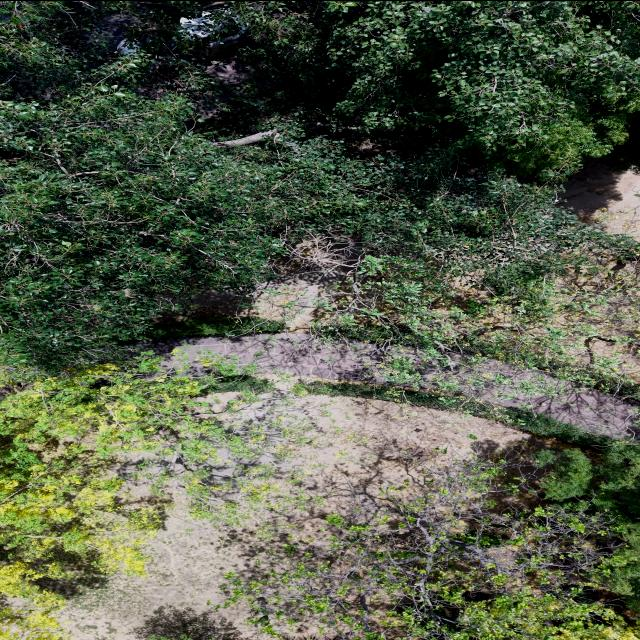DRY_AREA: (59, 392, 531, 639), (61, 390, 528, 639), (61, 390, 527, 639), (144, 237, 639, 438), (142, 333, 636, 437), (154, 334, 639, 439), (59, 493, 265, 639), (454, 260, 639, 383), (160, 231, 361, 330), (163, 232, 359, 330), (167, 233, 359, 330), (159, 269, 343, 330), (163, 270, 337, 330), (561, 157, 639, 239), (576, 297, 639, 382)
PATHWAYS: (134, 333, 639, 439)
VEGETATION_TREE: (0, 1, 639, 639), (0, 1, 637, 371), (2, 356, 315, 639), (0, 357, 289, 639), (225, 455, 637, 639), (232, 1, 638, 175), (2, 356, 307, 573), (313, 238, 639, 393), (0, 364, 201, 612), (536, 442, 639, 609), (131, 606, 238, 639), (148, 316, 285, 337)
